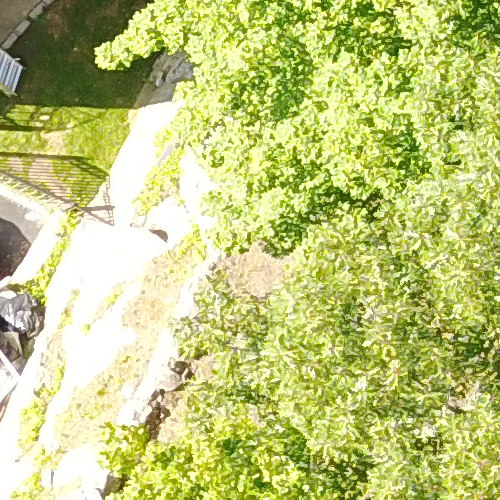larvae: (1, 255, 61, 348)
trash: (1, 269, 59, 350)
